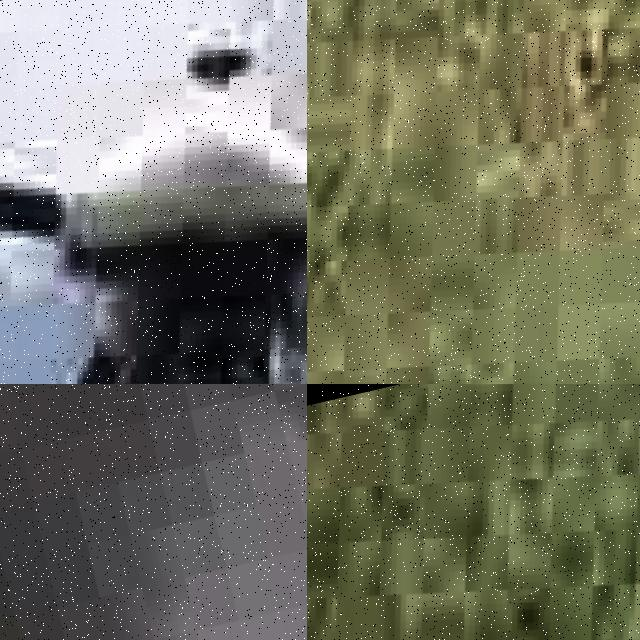drone: (307, 0, 640, 384), (0, 0, 307, 384), (307, 384, 640, 640)
